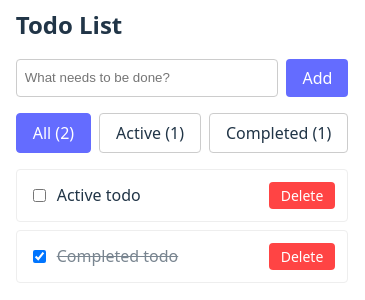
Test: TodoList Component › shows only active todos when "Active" filter is selected
// Click Active filter
Click the button with test id "filter-active". click: click(150, 133)
box: [99, 113, 201, 153]
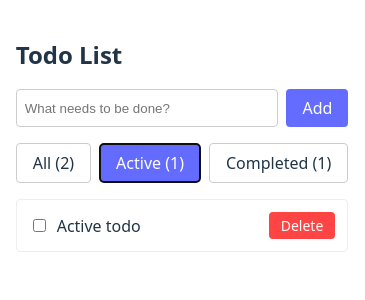
Expected: the text "Active todo" is shown, [57, 215, 141, 237]
Expected: the text "Completed todo" is gone
